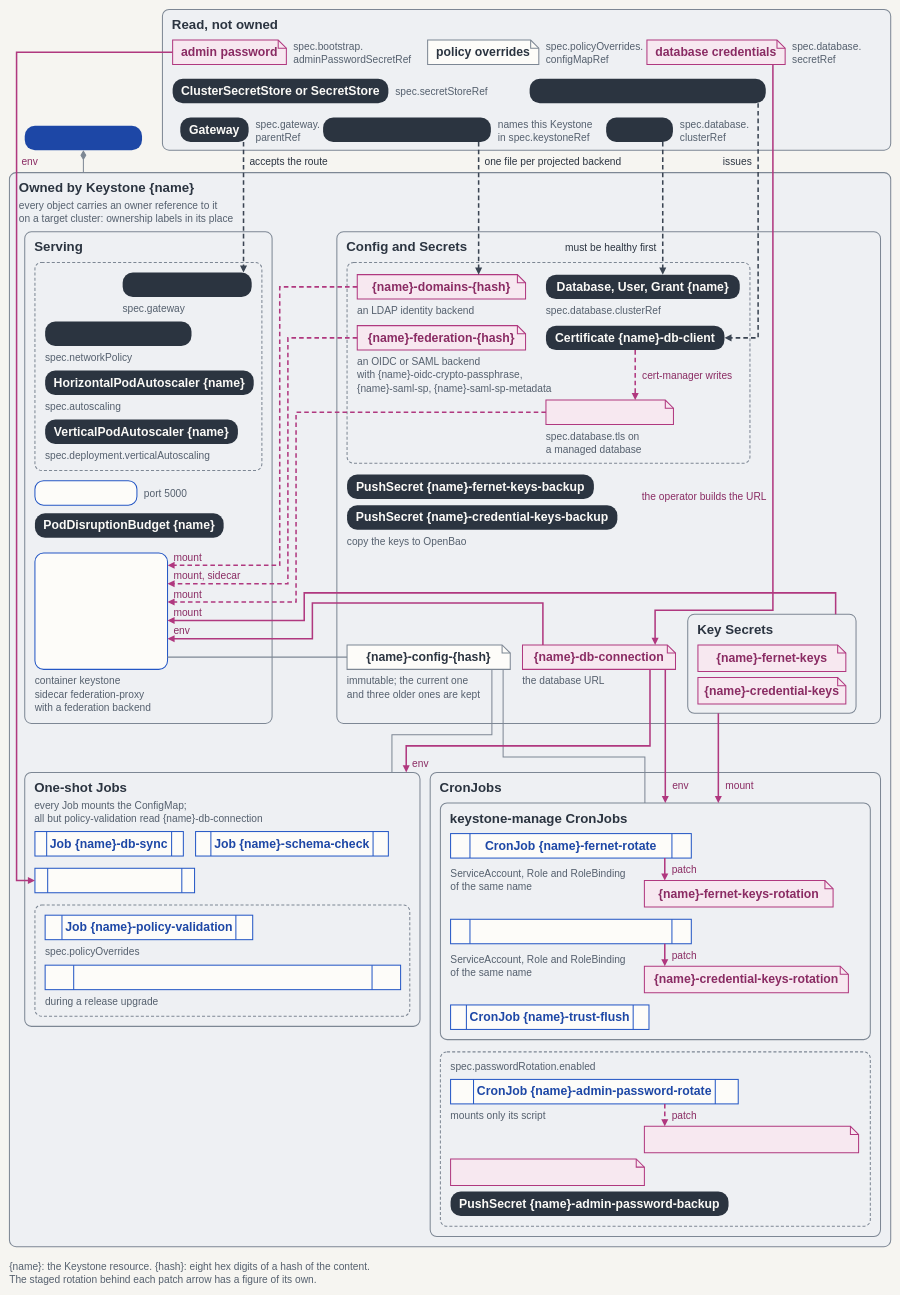
Image size: 900x1295. Some labels were removed from this diagram. Each missing label, with the centre of its shape:
ClusterIssuer openstack-db-ca-issuer: point 647,91
CronJob {name}-credential-rotate: point 571,931
Deployment {name}: point 101,611
HTTPRoute {name}: point 186,284
Job {name}-bootstrap: point 114,880
Jobs {name}-db-expand, -db-migrate, -db-contract: point 222,977
Keystone {name}: point 83,137
KeystoneIdentityBackend: point 407,129
MariaDB: point 639,129
NetworkPolicy {name}: point 118,333
Service {name}: point 85,492
{name}-admin-password-next: point 547,1172
{name}-admin-password-rotation: point 751,1139
{name}-db-client: point 609,412
